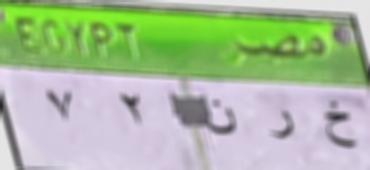2: (113, 88, 154, 132)
7: (42, 83, 84, 124)
khaa: (320, 96, 360, 153)
noon: (203, 98, 242, 140)
raa: (268, 100, 302, 144)
